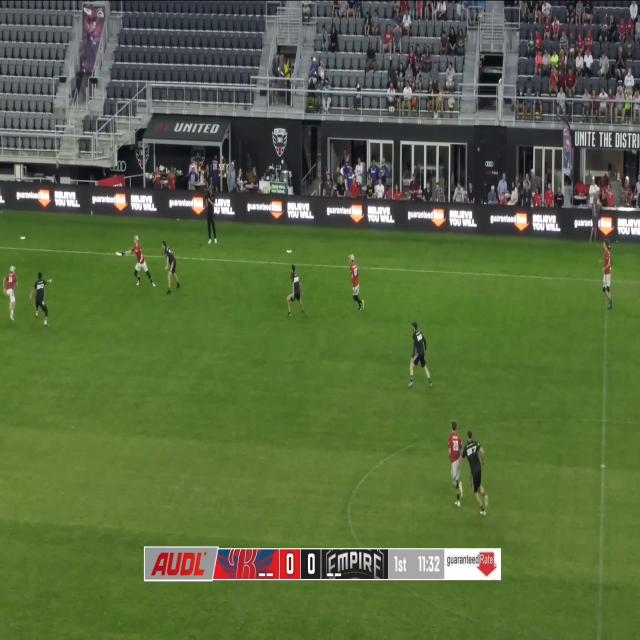Disc: (115, 252, 122, 256), (20, 237, 26, 240), (286, 250, 292, 253)
Player: (459, 430, 489, 516), (120, 235, 156, 287), (408, 322, 432, 388), (29, 272, 52, 327), (448, 422, 463, 506), (286, 264, 305, 318), (162, 241, 180, 294), (348, 254, 364, 310), (599, 240, 612, 308), (3, 266, 18, 321)
